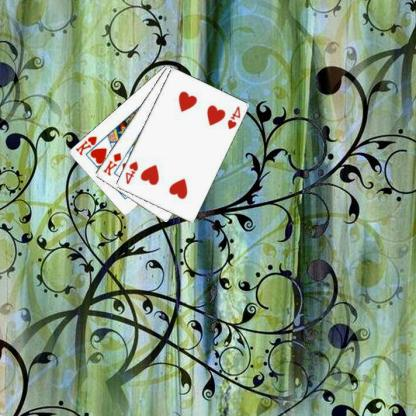4H: (124, 159, 141, 185), (226, 104, 243, 130)
KD: (102, 150, 124, 177)
KH: (75, 133, 100, 157)
